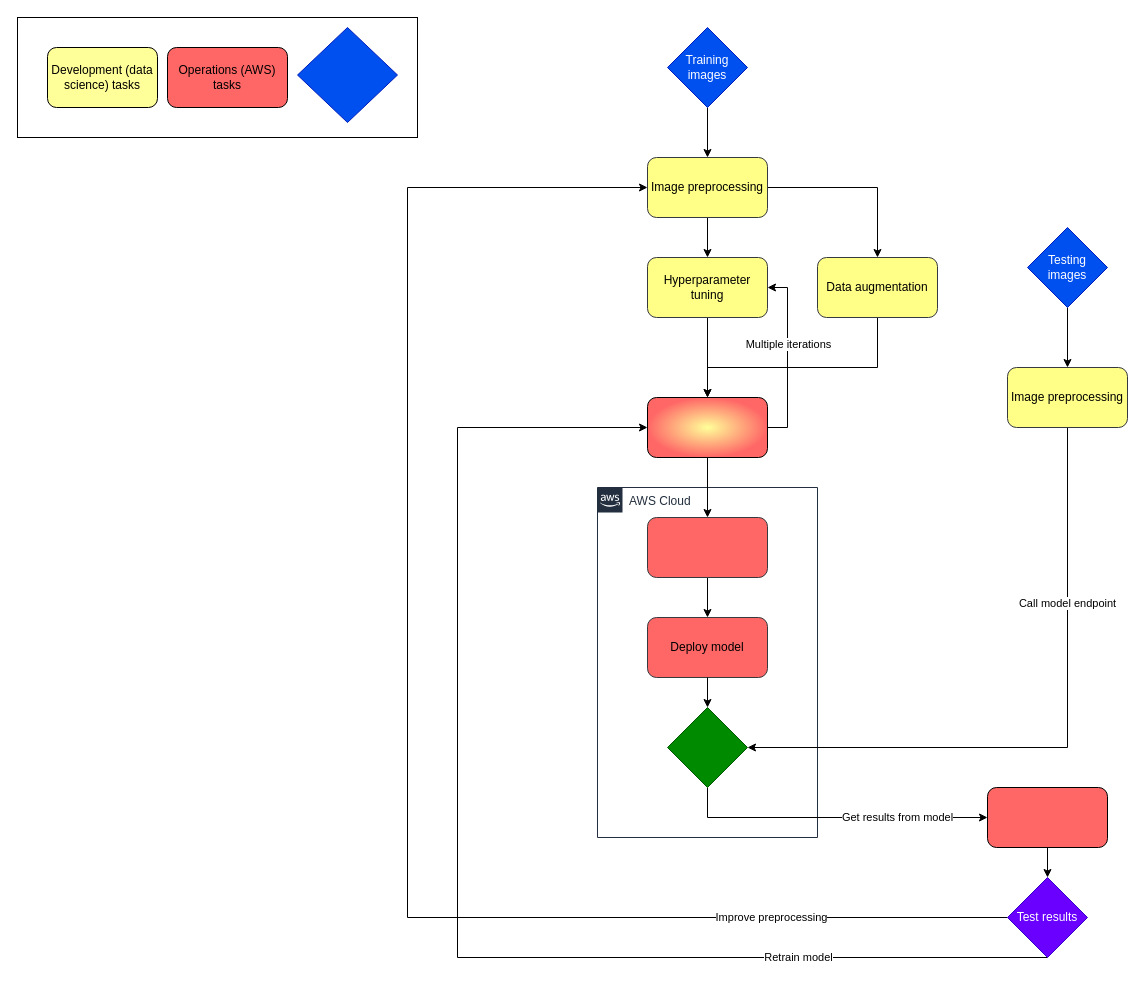
The diagram is 1145 pixels wide and 983 high, and some of its shapes have lost their labels. The centre of each missing label's shape, as x and y in pixels:
"Design model" goes at point 707,427.
"Input/output artifacts" goes at point 347,74.
"Model endpoint" goes at point 707,747.
"Result processing" goes at point 1047,817.
"Train model" goes at point 707,547.
